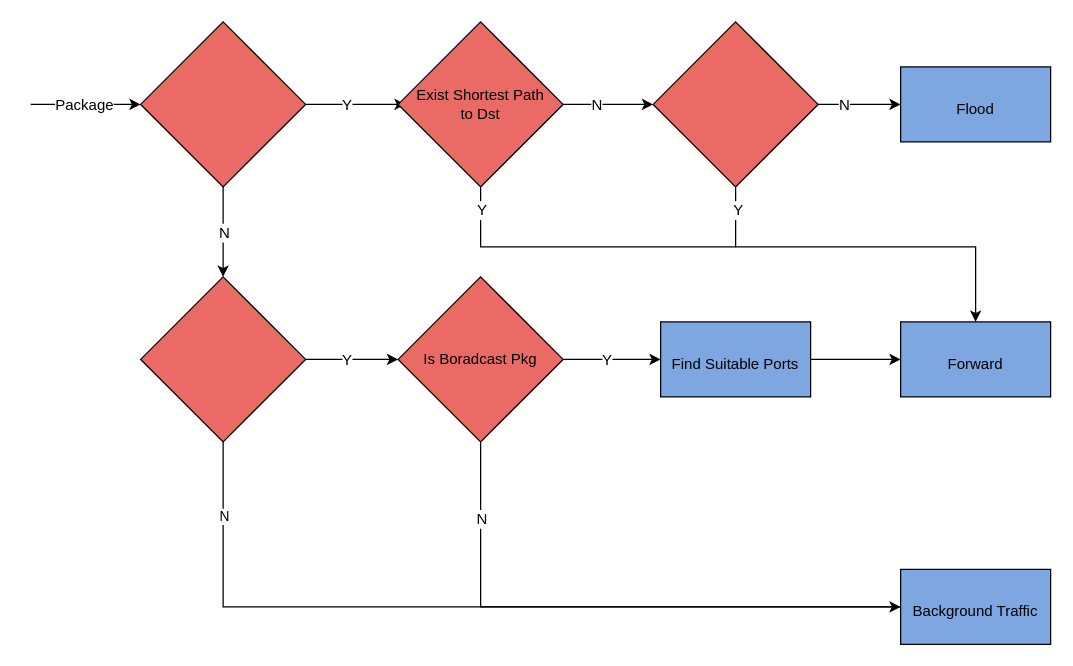
The diagram is 1073 pixels wide and 666 high, and some of its shapes have lost their labels. Here are the shapes that lost their labels. From the top down, the centre of each, then its label:
At (222,104): "Src & Dst are in Topology".
At (735,104): "Exist Shortest Path to Leaf".
At (222,359): "Src is in Topology".
